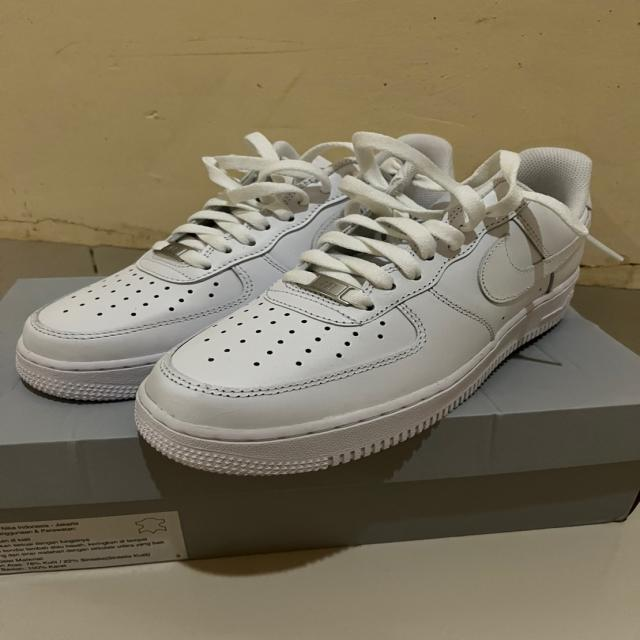nike original air force: (129, 143, 640, 478), (11, 133, 456, 406)
